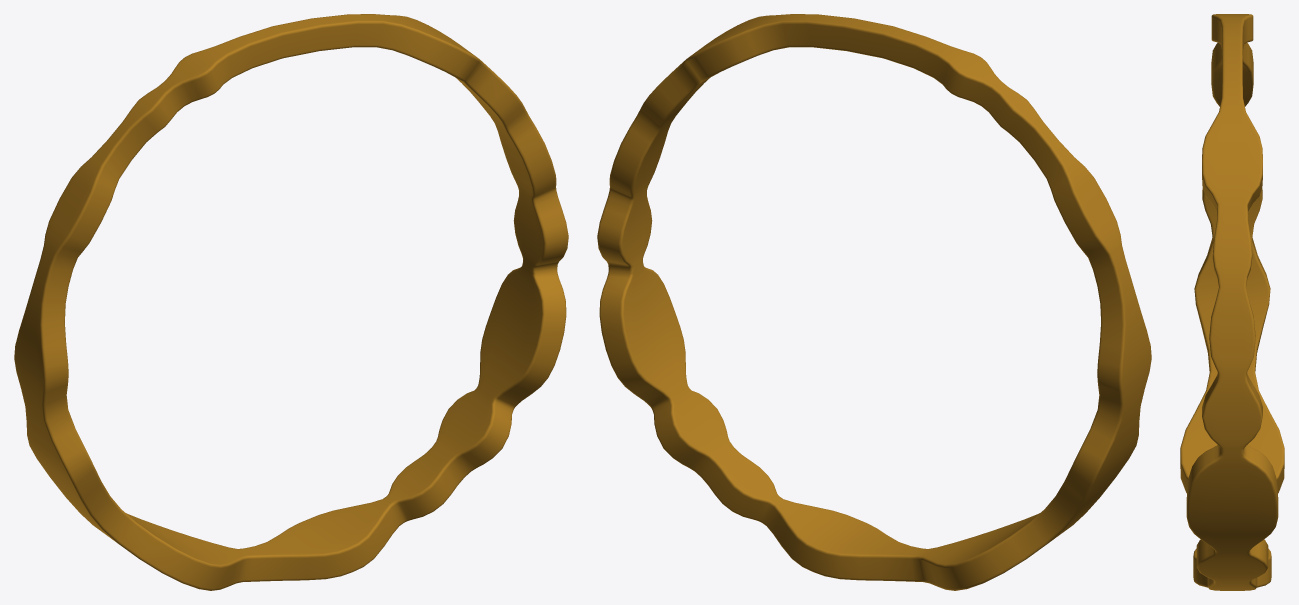
Rendered from wave_ring2.glb.
3 renders of one model, left to right at view 1: azimuth 30°, elevation 25°; view 2: azimuth 150°, elevation 25°; view 3: azimuth 270°, elevation 25°, orthographic. The views are drawn at different scales.
Visible parts, largest first — view 1: Plane; view 2: Plane; view 3: Plane.
Boxes of the visible parts, x1,y1,x2,y2 form: Plane: [14, 14, 568, 590]; Plane: [597, 14, 1151, 590]; Plane: [1180, 14, 1284, 590].
Bounding box in the file's own units: 2.15 × 2.13 × 0.39.
